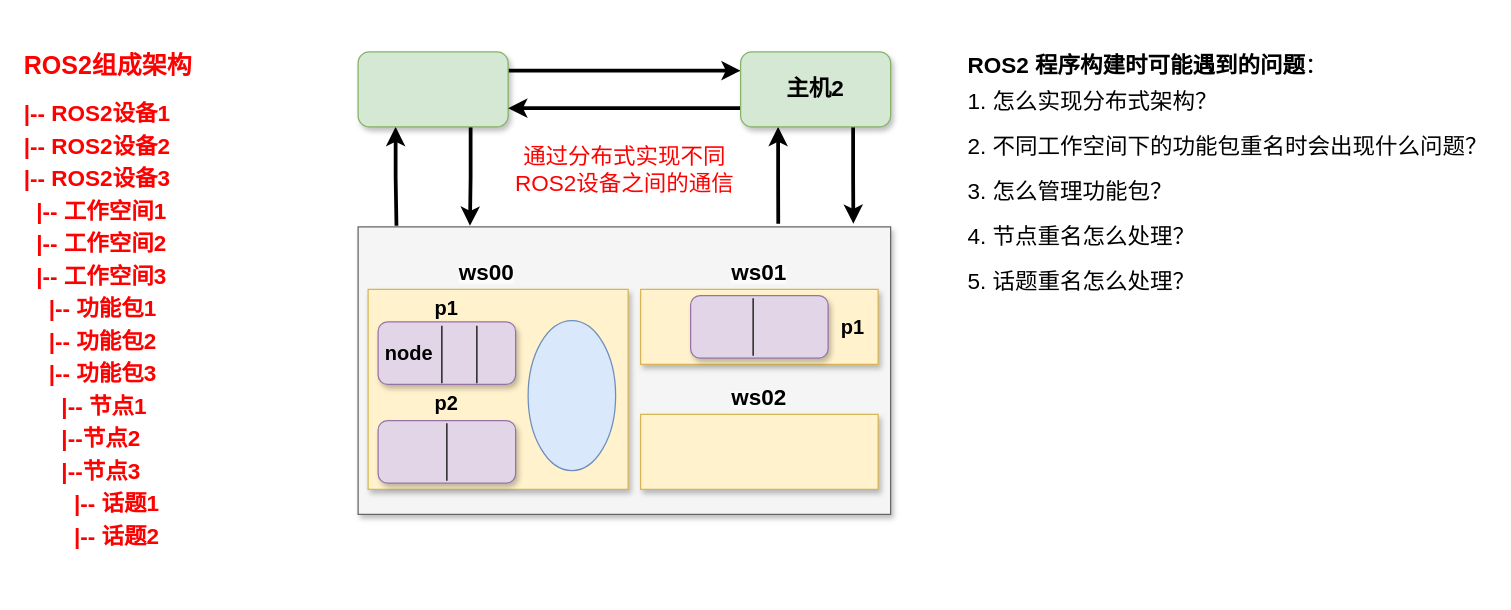
Image size: 1511x610. Some labels were removed from this diagram. The centre of each missing label's shape, as x and y in pixels:
主机1: (x=434, y=91)
元功能包: (x=571, y=395)
